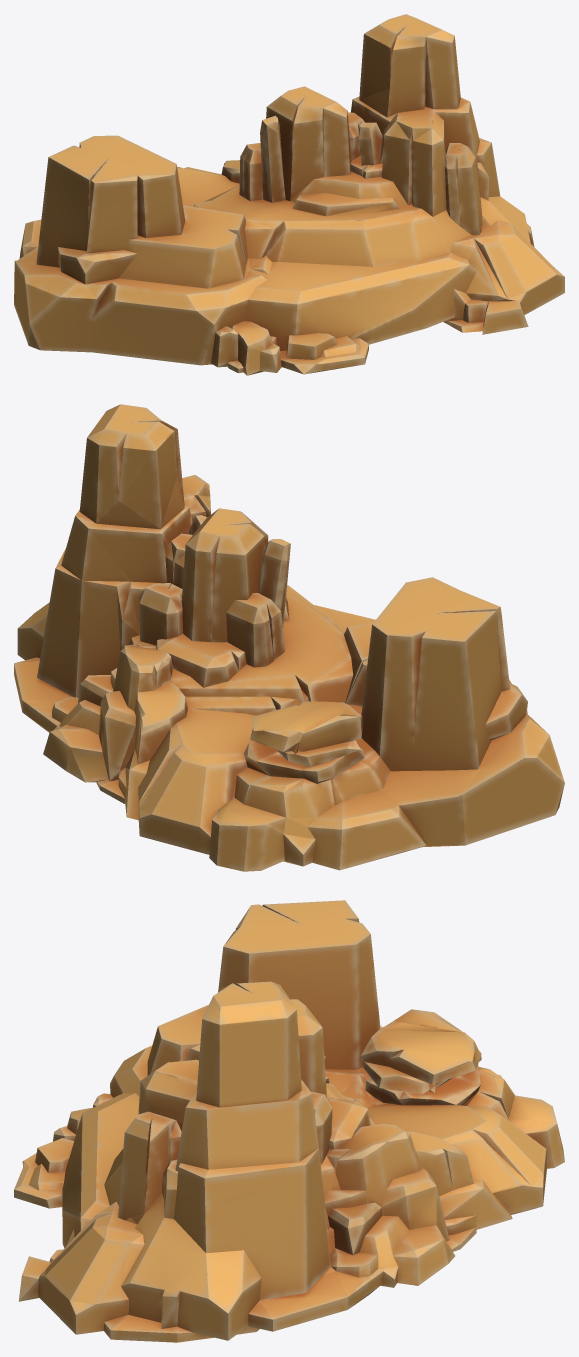
File: Rock_big_002.fbx
3 renders of one model, top to bottom at view 1: azimuth 30°, elevation 25°; view 2: azimuth 150°, elevation 25°; view 3: azimuth 270°, elevation 25°, orthographic. The views are drawn at different scales.
Visible parts, largest first — view 1: Rock_Big_002; view 2: Rock_Big_002; view 3: Rock_Big_002.
Part boxes in pixels (x1,y1,x2,y2): Rock_Big_002: [14, 14, 564, 375]; Rock_Big_002: [14, 404, 564, 871]; Rock_Big_002: [14, 900, 564, 1342].
Size of what is drawn, in the model's own units: 2600 by 1249 by 2107.
1 material, 1 textured.
